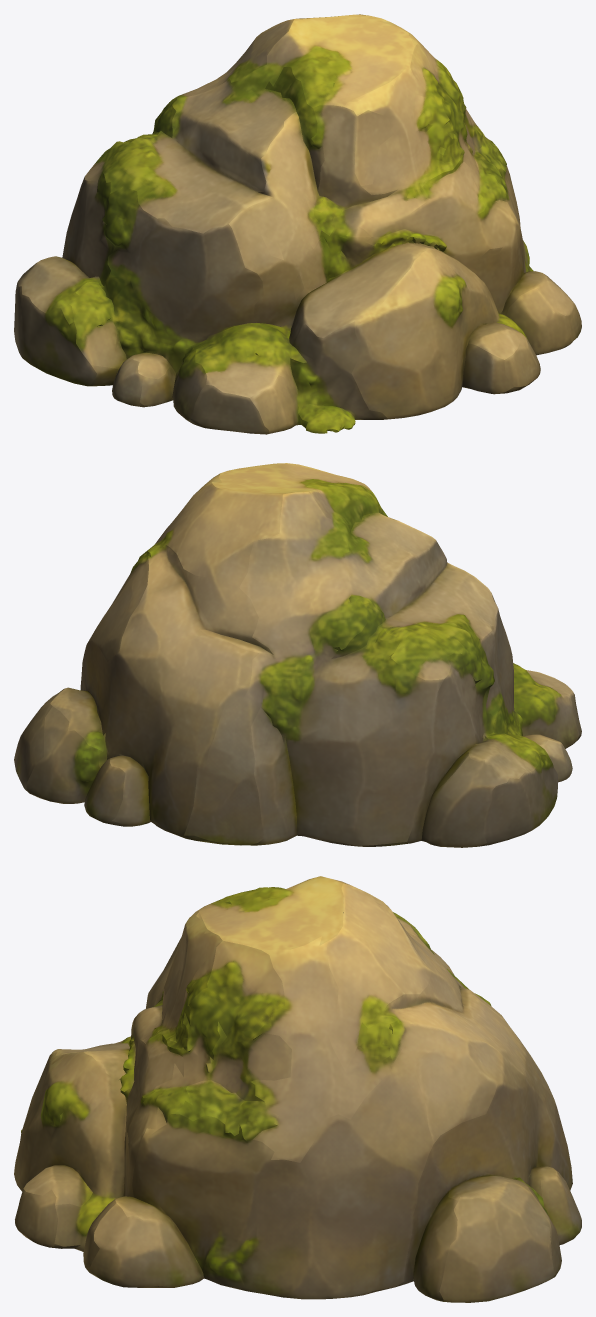
Rendered from A1-rock-runtime.glb.
The picture shows the model from 3 angles, top to bottom: view 1: azimuth 30°, elevation 25°; view 2: azimuth 150°, elevation 25°; view 3: azimuth 270°, elevation 25°; orthographic projection. The views are drawn at different scales.
Parts seen in each view (by area): view 1: world; view 2: world; view 3: world.
Boxes of the visible parts, box(x1,y1,x2,y2) form: world: box(14, 14, 581, 434); world: box(14, 463, 581, 847); world: box(14, 876, 581, 1302).
Bounding box in the file's own units: 0.8 × 0.447 × 0.7492.
1 material, 1 textured.
